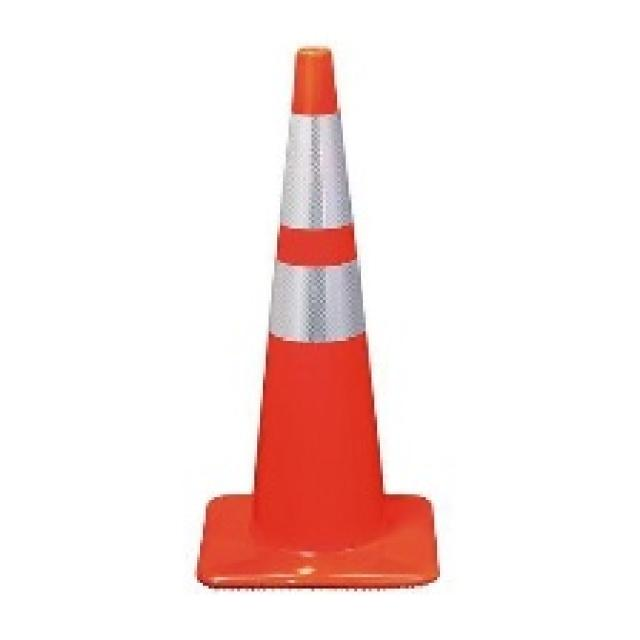cone: (194, 41, 438, 600)
